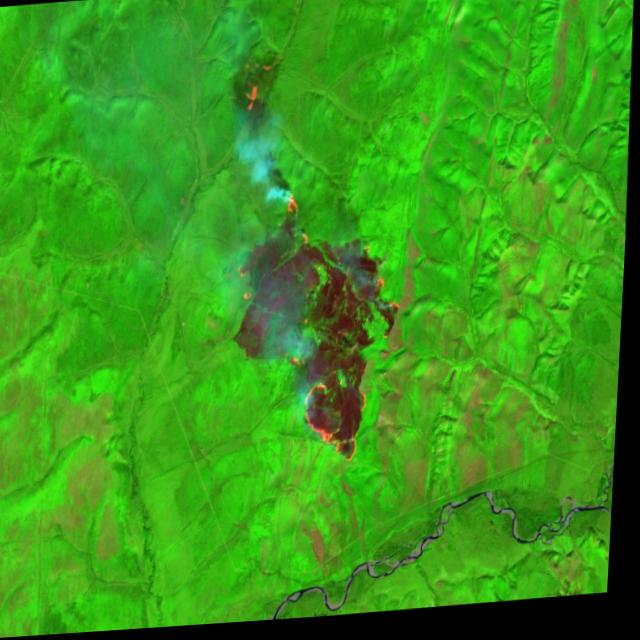fire: (225, 184, 411, 486)
